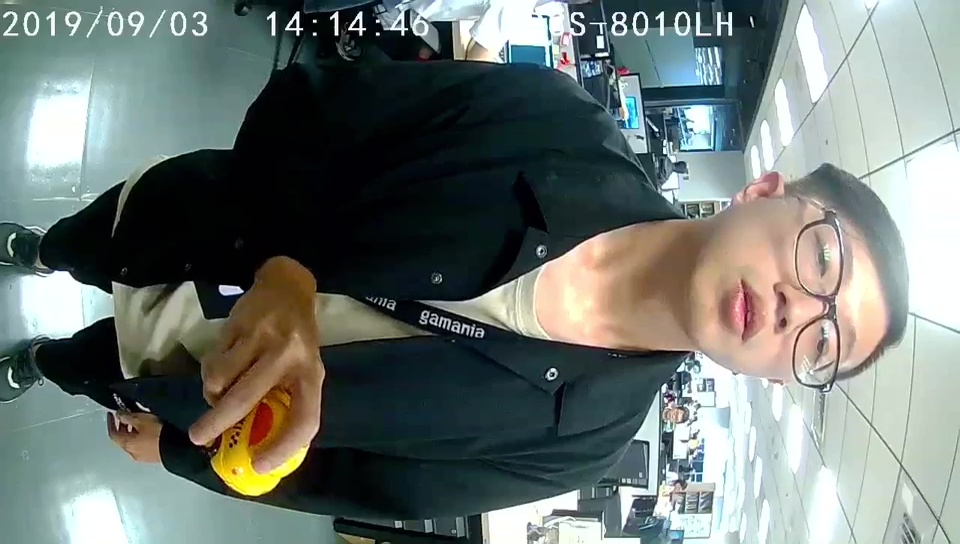car: (207, 391, 306, 495)
